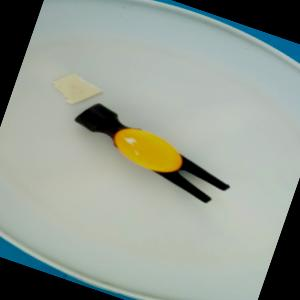martelo: (59, 94, 246, 210)
